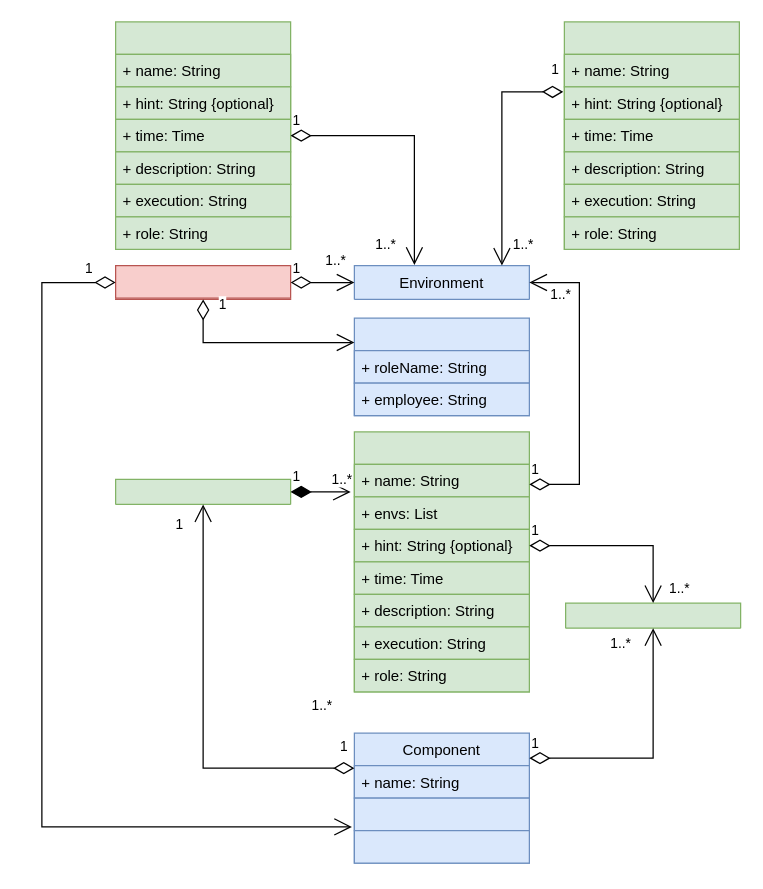
Some shapes in this 763 by 889 pixel diagram are drawn without their labels. Each missing label, with the box of its shape:
+ tags: List: (353, 829, 529, 863)
+ version: String: (353, 797, 529, 831)
ActivityRole: (353, 317, 529, 416)
ComponentActivities: (353, 431, 529, 692)
ComponentType: (114, 478, 291, 504)
GeneralPostActivities: (563, 21, 739, 249)
GeneralPreActivities: (114, 21, 291, 249)
Release: (114, 264, 291, 299)
Tag: (564, 602, 741, 628)
